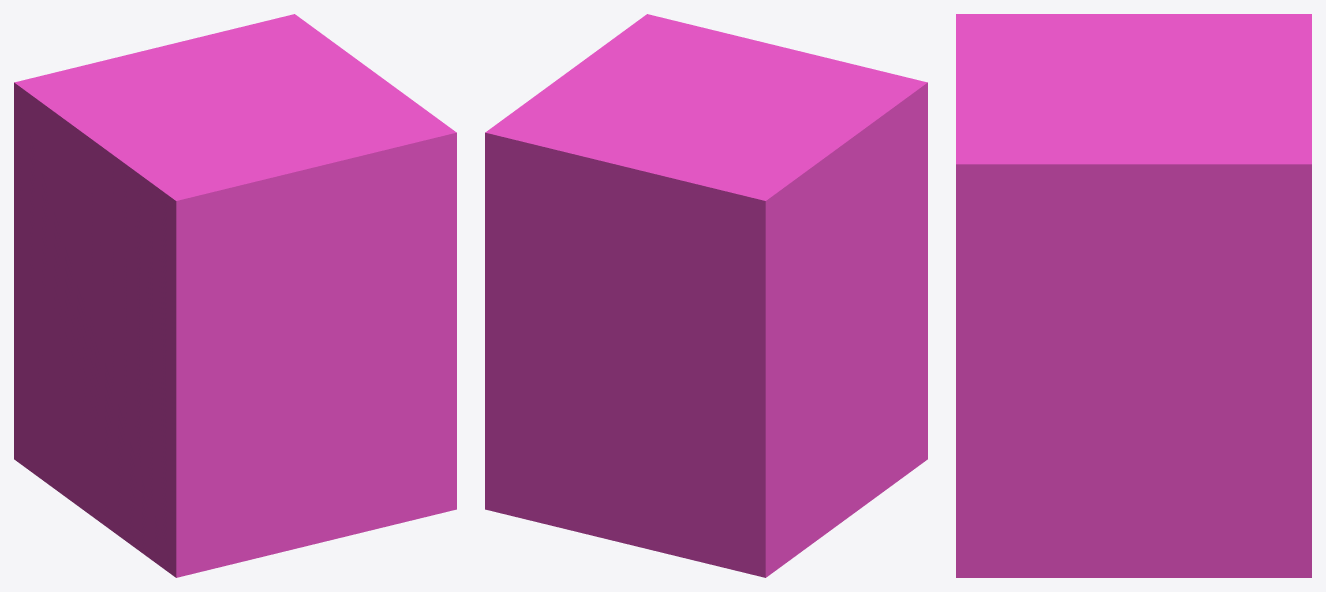
Rendered from missile_launcher.glb.
3 renders of one model, left to right at view 1: azimuth 30°, elevation 25°; view 2: azimuth 150°, elevation 25°; view 3: azimuth 270°, elevation 25°, orthographic. The views are drawn at different scales.
Visible parts, largest first — view 1: COL_BOX_BODY; view 2: COL_BOX_BODY; view 3: COL_BOX_BODY.
Part boxes in pixels (x1,y1,x2,y2): COL_BOX_BODY: (14, 14, 456, 577); COL_BOX_BODY: (485, 14, 927, 577); COL_BOX_BODY: (956, 14, 1311, 577).
Size of the model in its own units: 1.2 by 1.54 by 1.2.
